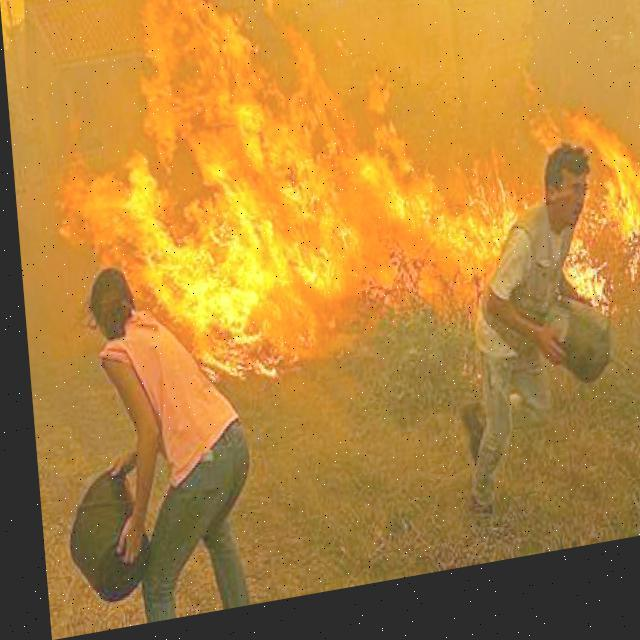Fire: (33, 0, 639, 410)
